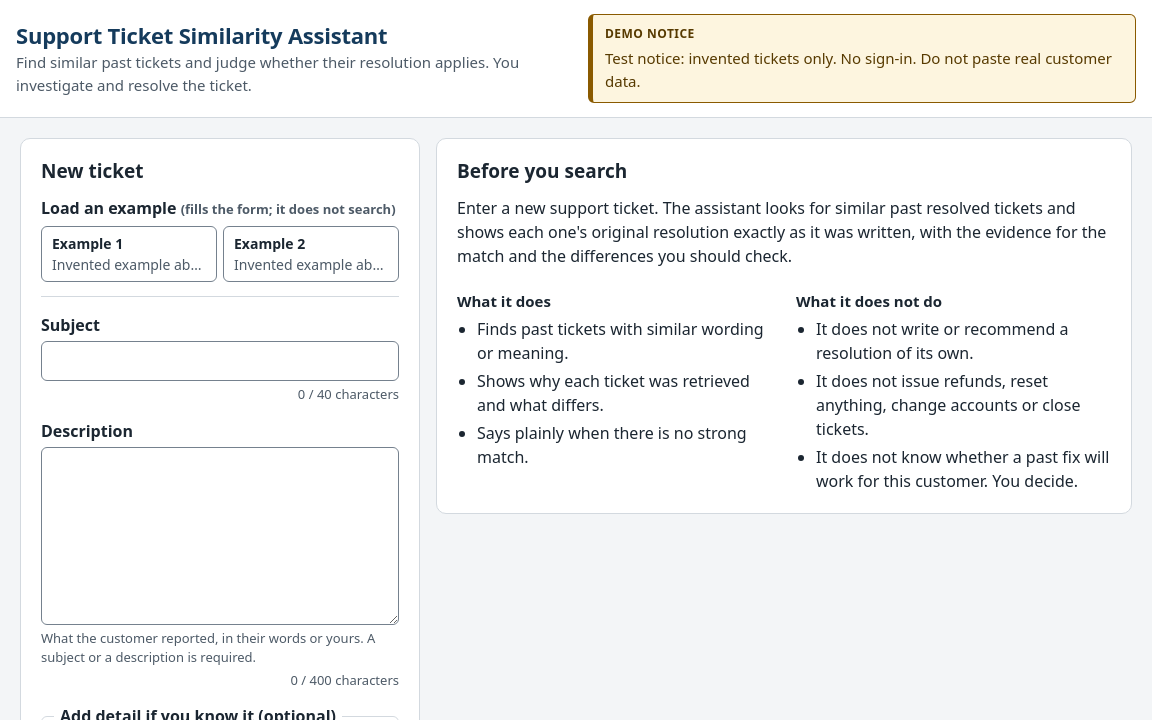
result card › shows the resolution verbatim, the evidence, unknowns as unknown, and the fixed cautions
Expected: the heading "Before you search" is shown, 457,158 -> 627,184
In the field labelled "Subject": {"x": 220, "y": 361} 41,341 -> 399,381, type "Alpha problem"
(page scrolled)
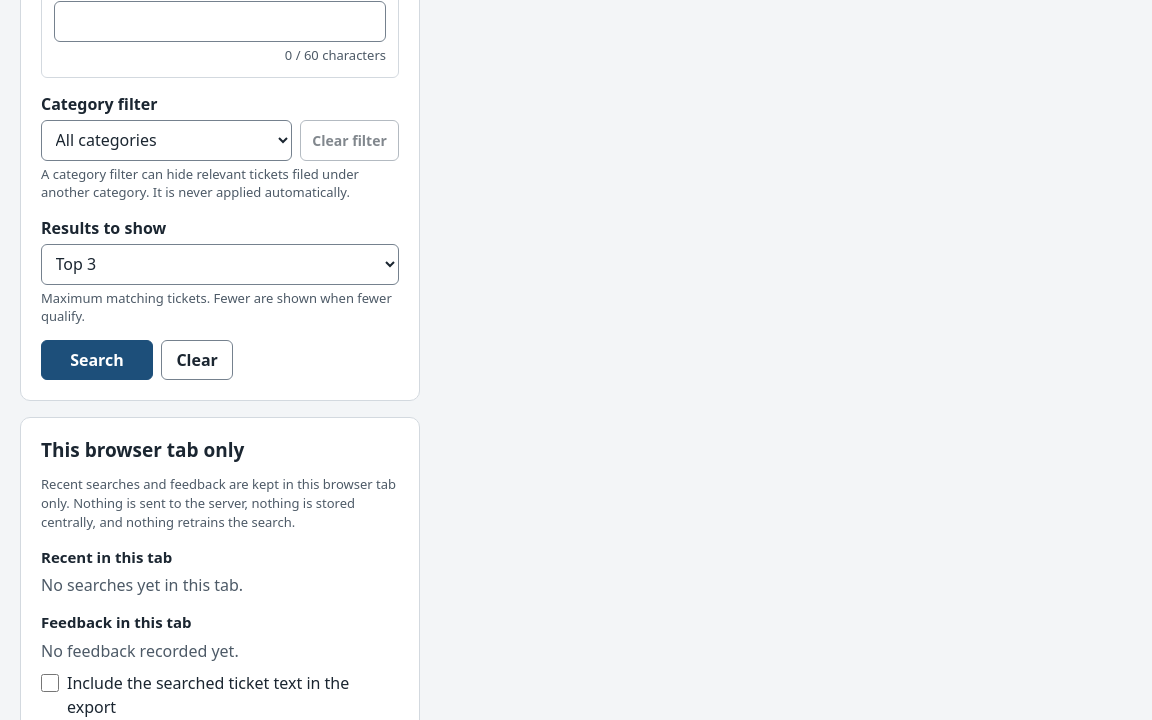
Click the button "Search": {"x": 97, "y": 360} 41,340 -> 153,380
(page scrolled)
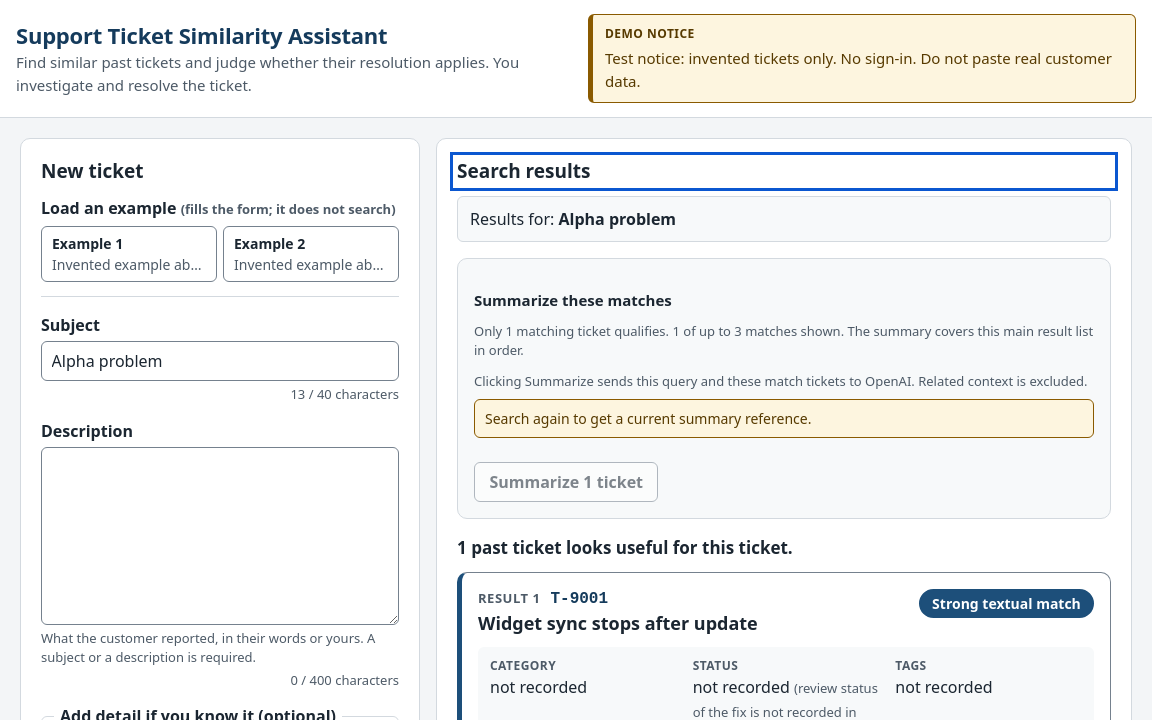
Expected: the text "Strong textual match" is shown, 919,589 -> 1094,618
